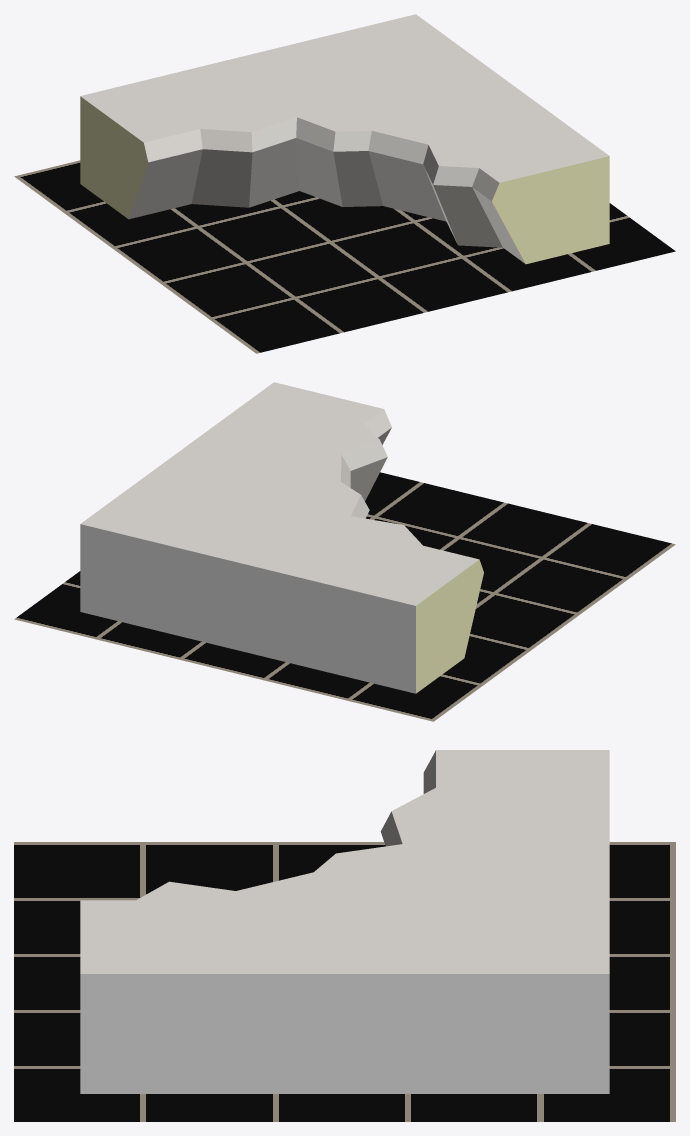
Rendered from Cracked_Curve_Inner_4x4_1_Top.glb.
3 views of the same model, one above another, from view 1: azimuth 30°, elevation 25°; view 2: azimuth 150°, elevation 25°; view 3: azimuth 270°, elevation 25° (orthographic). The views are drawn at different scales.
Parts seen in each view (by area): view 1: Cracked_Curve_Inner_4x4_1_Top, Floor; view 2: Cracked_Curve_Inner_4x4_1_Top, Floor; view 3: Cracked_Curve_Inner_4x4_1_Top, Floor.
Part boxes in pixels (x1,y1,x2,y2): Cracked_Curve_Inner_4x4_1_Top: (80, 14, 609, 264); Floor: (14, 160, 675, 353); Cracked_Curve_Inner_4x4_1_Top: (80, 382, 483, 693); Floor: (14, 472, 675, 721); Cracked_Curve_Inner_4x4_1_Top: (80, 750, 609, 1093); Floor: (14, 842, 675, 1121).
Bounding box in the file's own units: 500 × 100 × 500.
4 materials, 1 textured.
